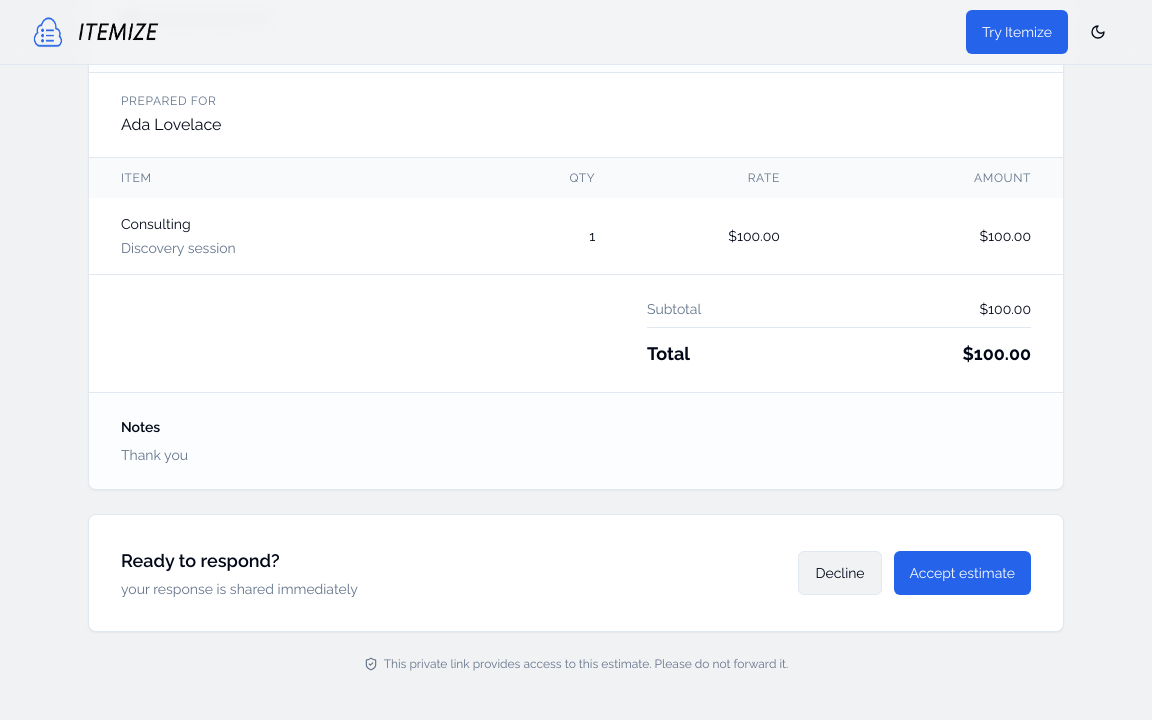
Test: PublicEstimatePage › explains who is notified before a decline
(page scrolled)
Click the button "Decline": (840, 573) [798,551,882,595]
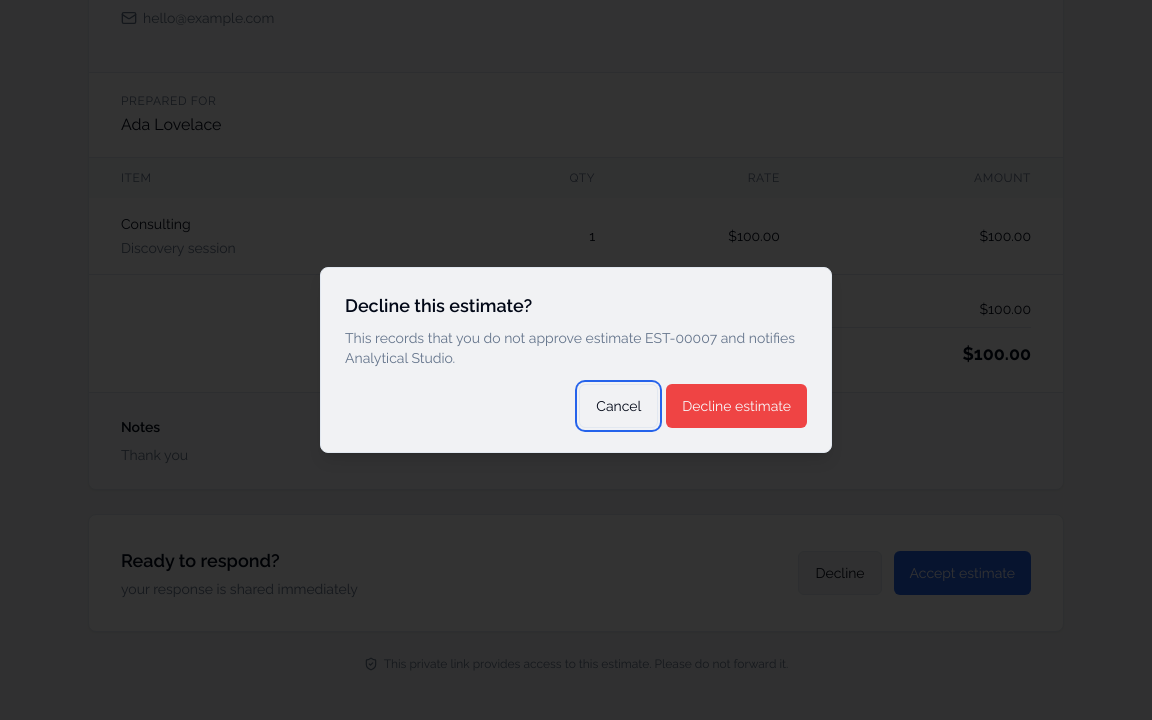
Check: the text "This records that you do not approve estimate EST-00007 and notifies Analytical Studio." is shown, box [345,330,795,366]
